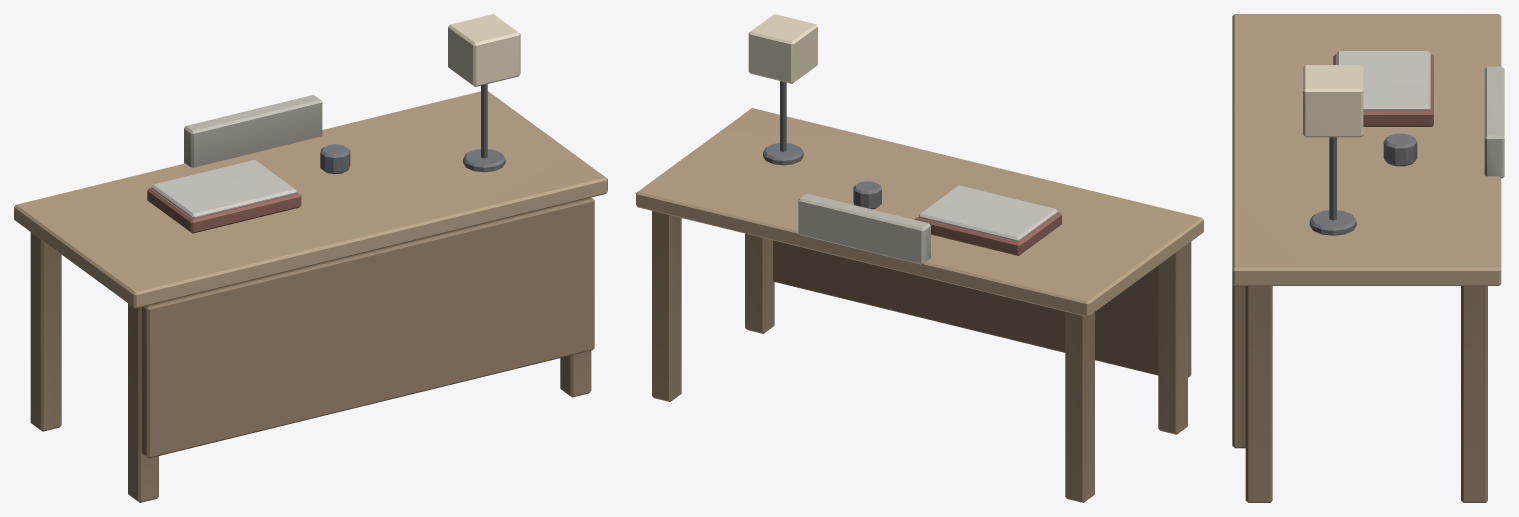
The model's file is jail_desk.glb.
The picture shows the model from 3 angles, left to right: view 1: azimuth 30°, elevation 25°; view 2: azimuth 150°, elevation 25°; view 3: azimuth 270°, elevation 25°; orthographic projection. The views are drawn at different scales.
Size of the model in its own units: 1.8 by 1.28 by 0.81.
